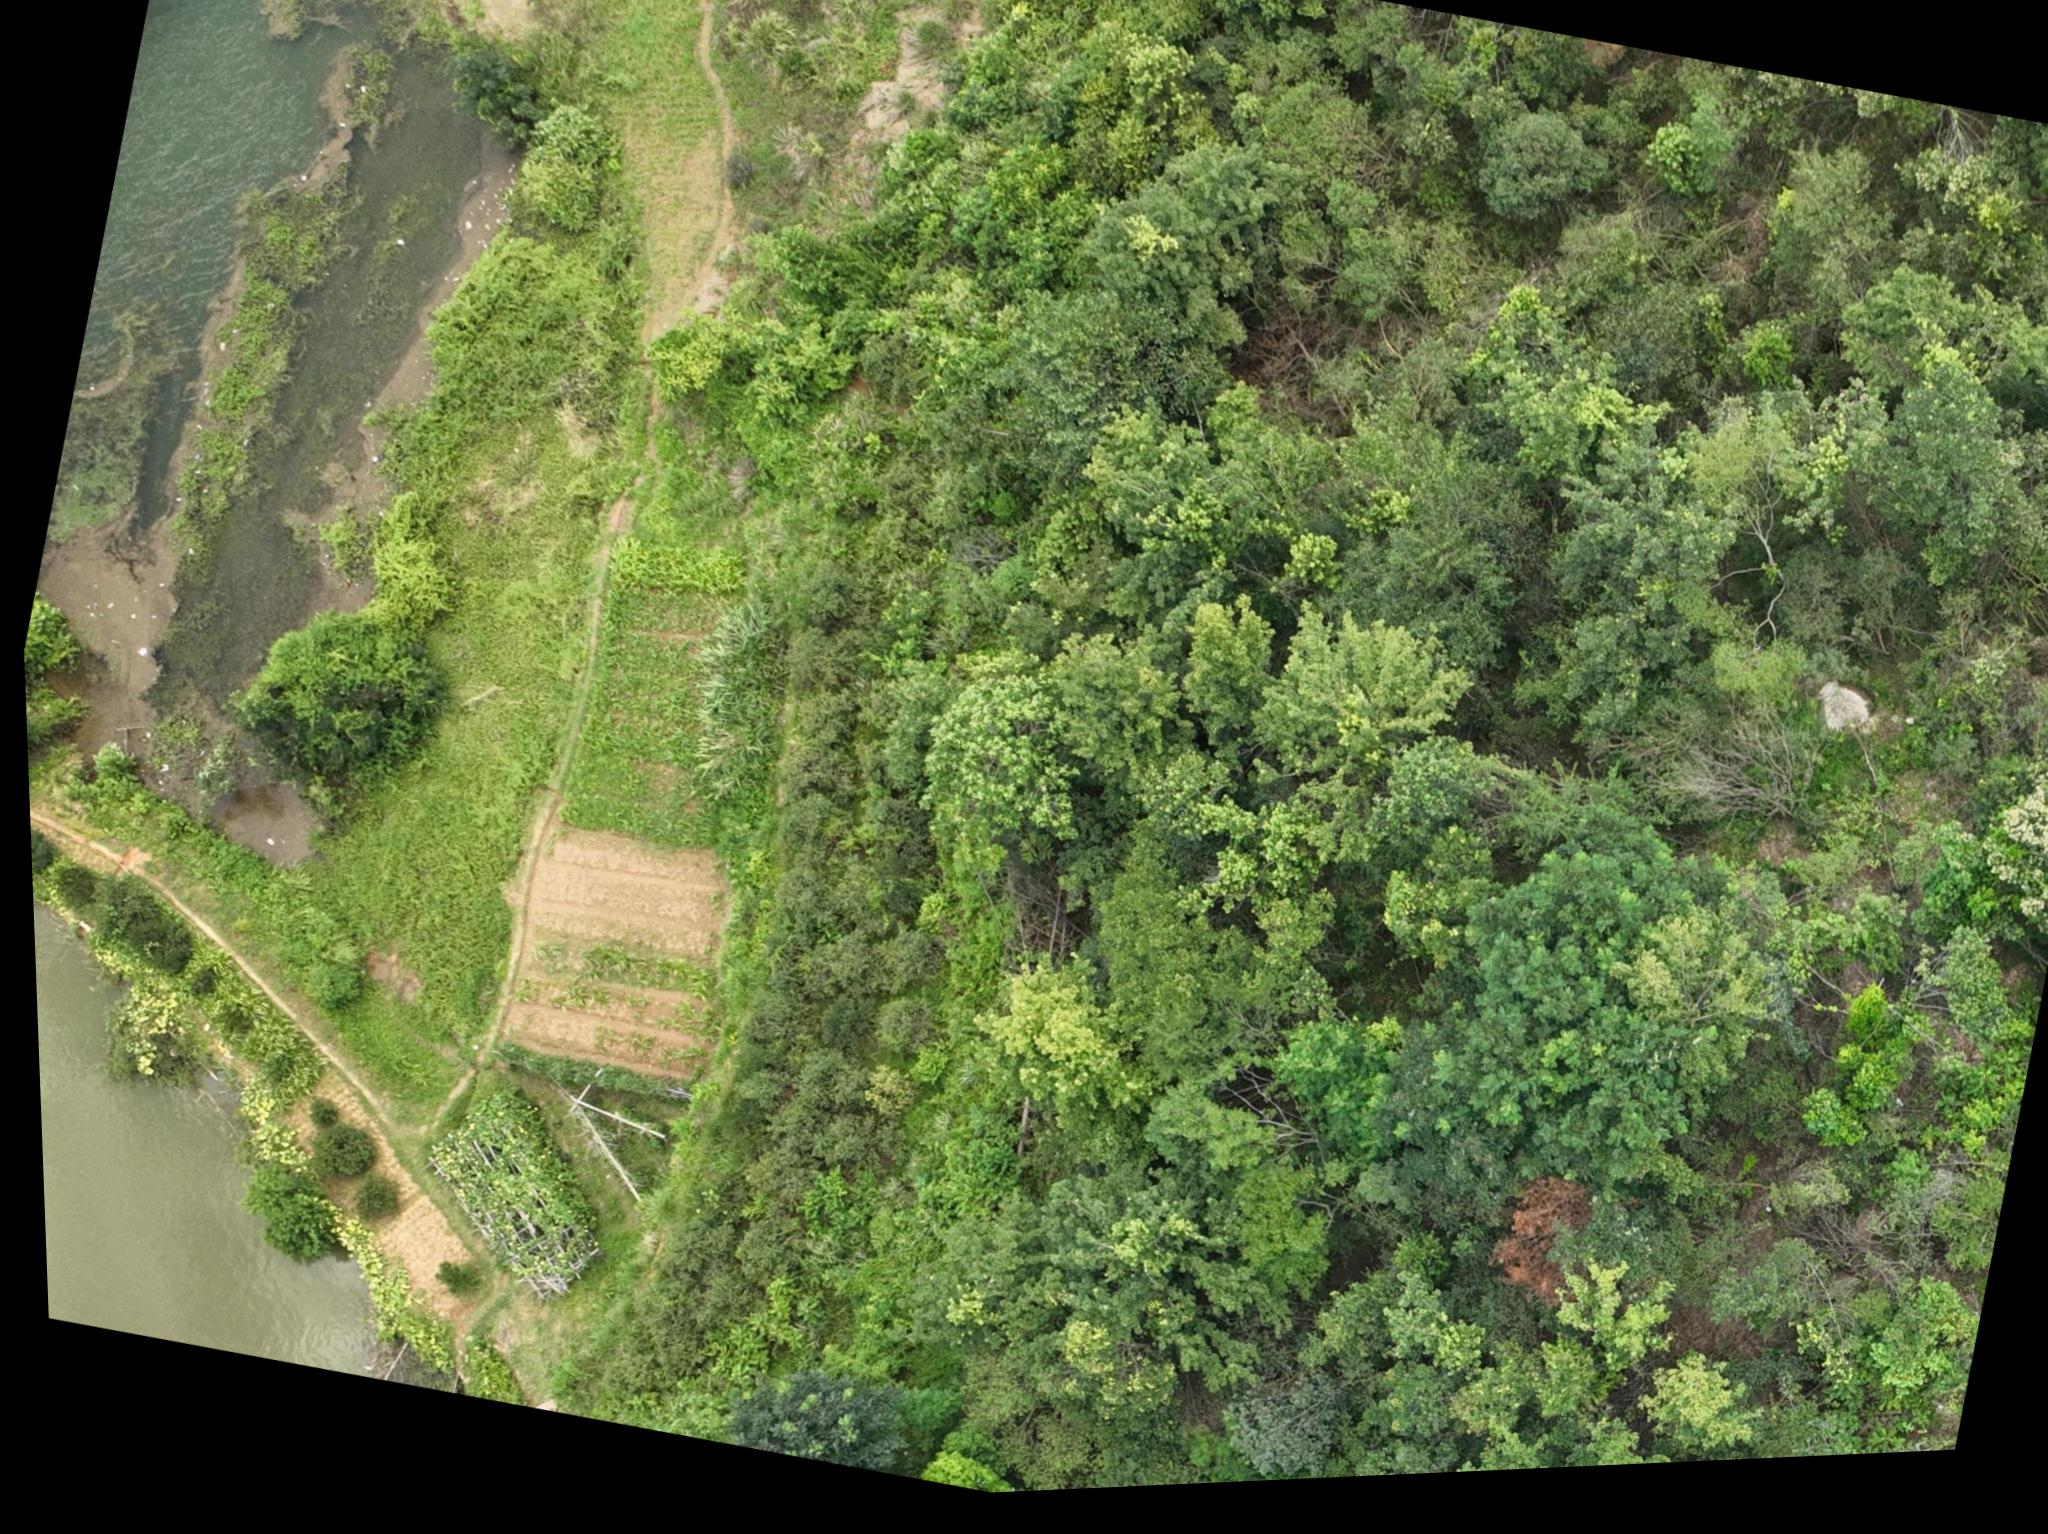heavy: (1465, 1173, 1590, 1323)
